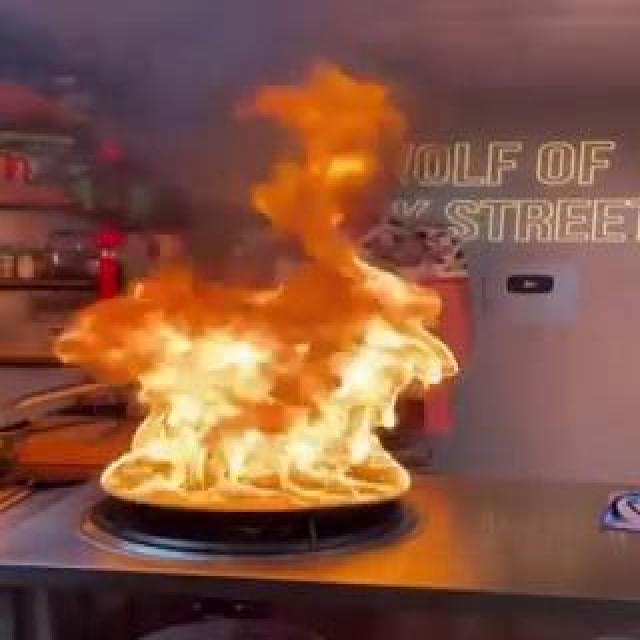Fire: (59, 148, 417, 519)
